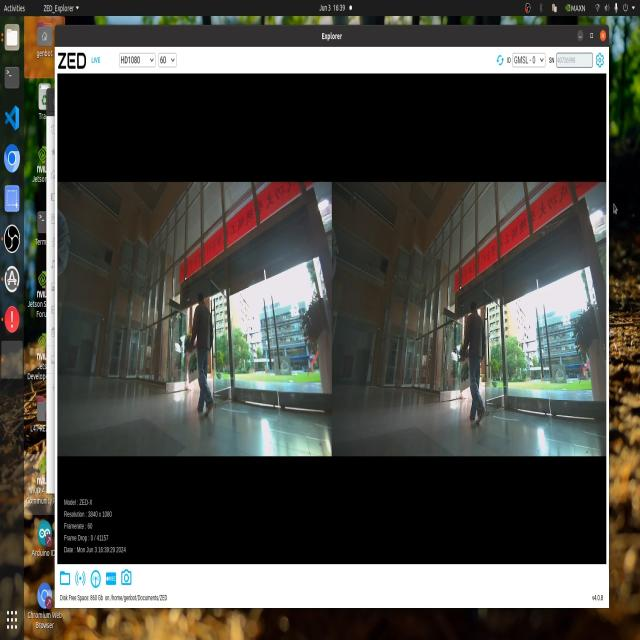green: (186, 344, 201, 385), (459, 358, 469, 389)
